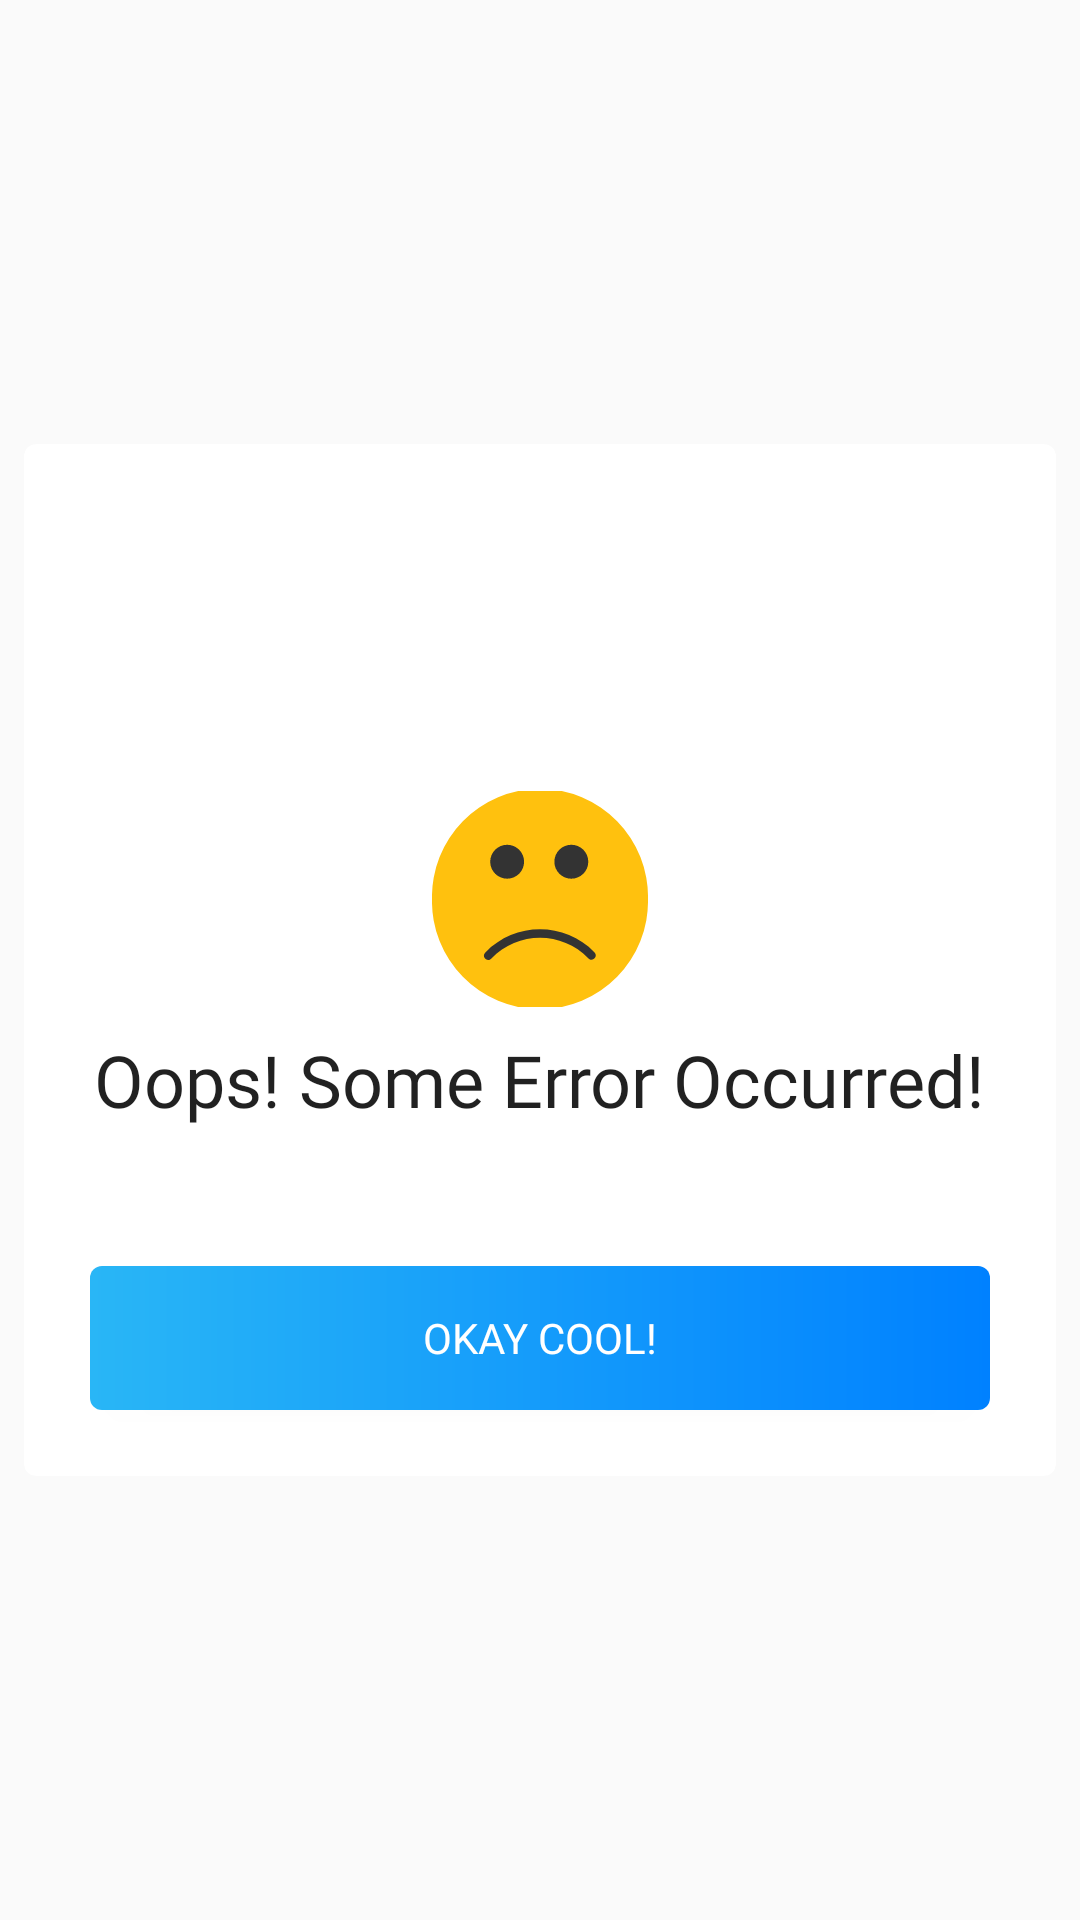

Where to tap for icons on this 1080*1920 app screen, as point (x, y):
sad: point (540, 899)
